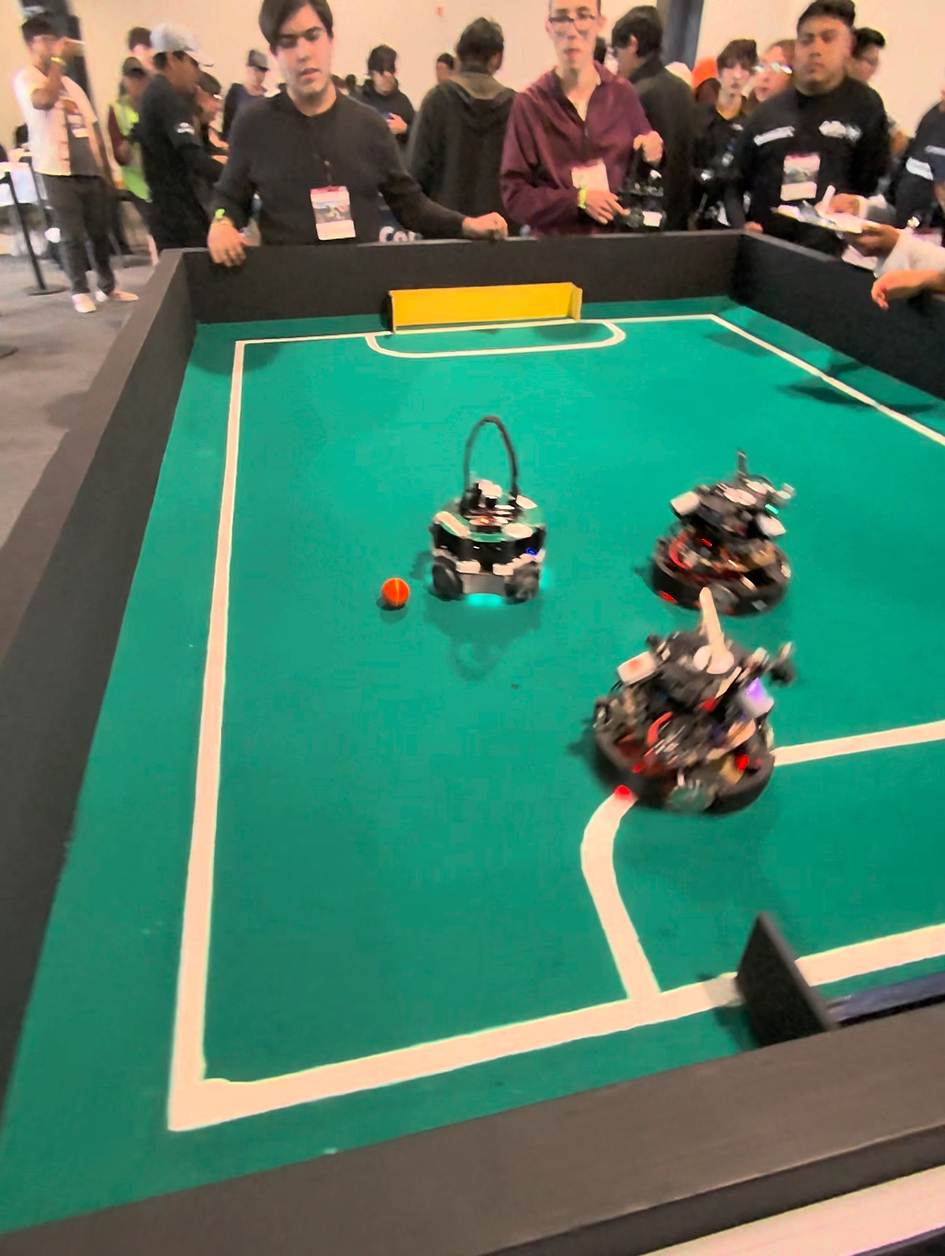Robot: (585, 618, 796, 823), (640, 440, 793, 609), (426, 419, 550, 606)
pelota: (380, 572, 410, 608)
